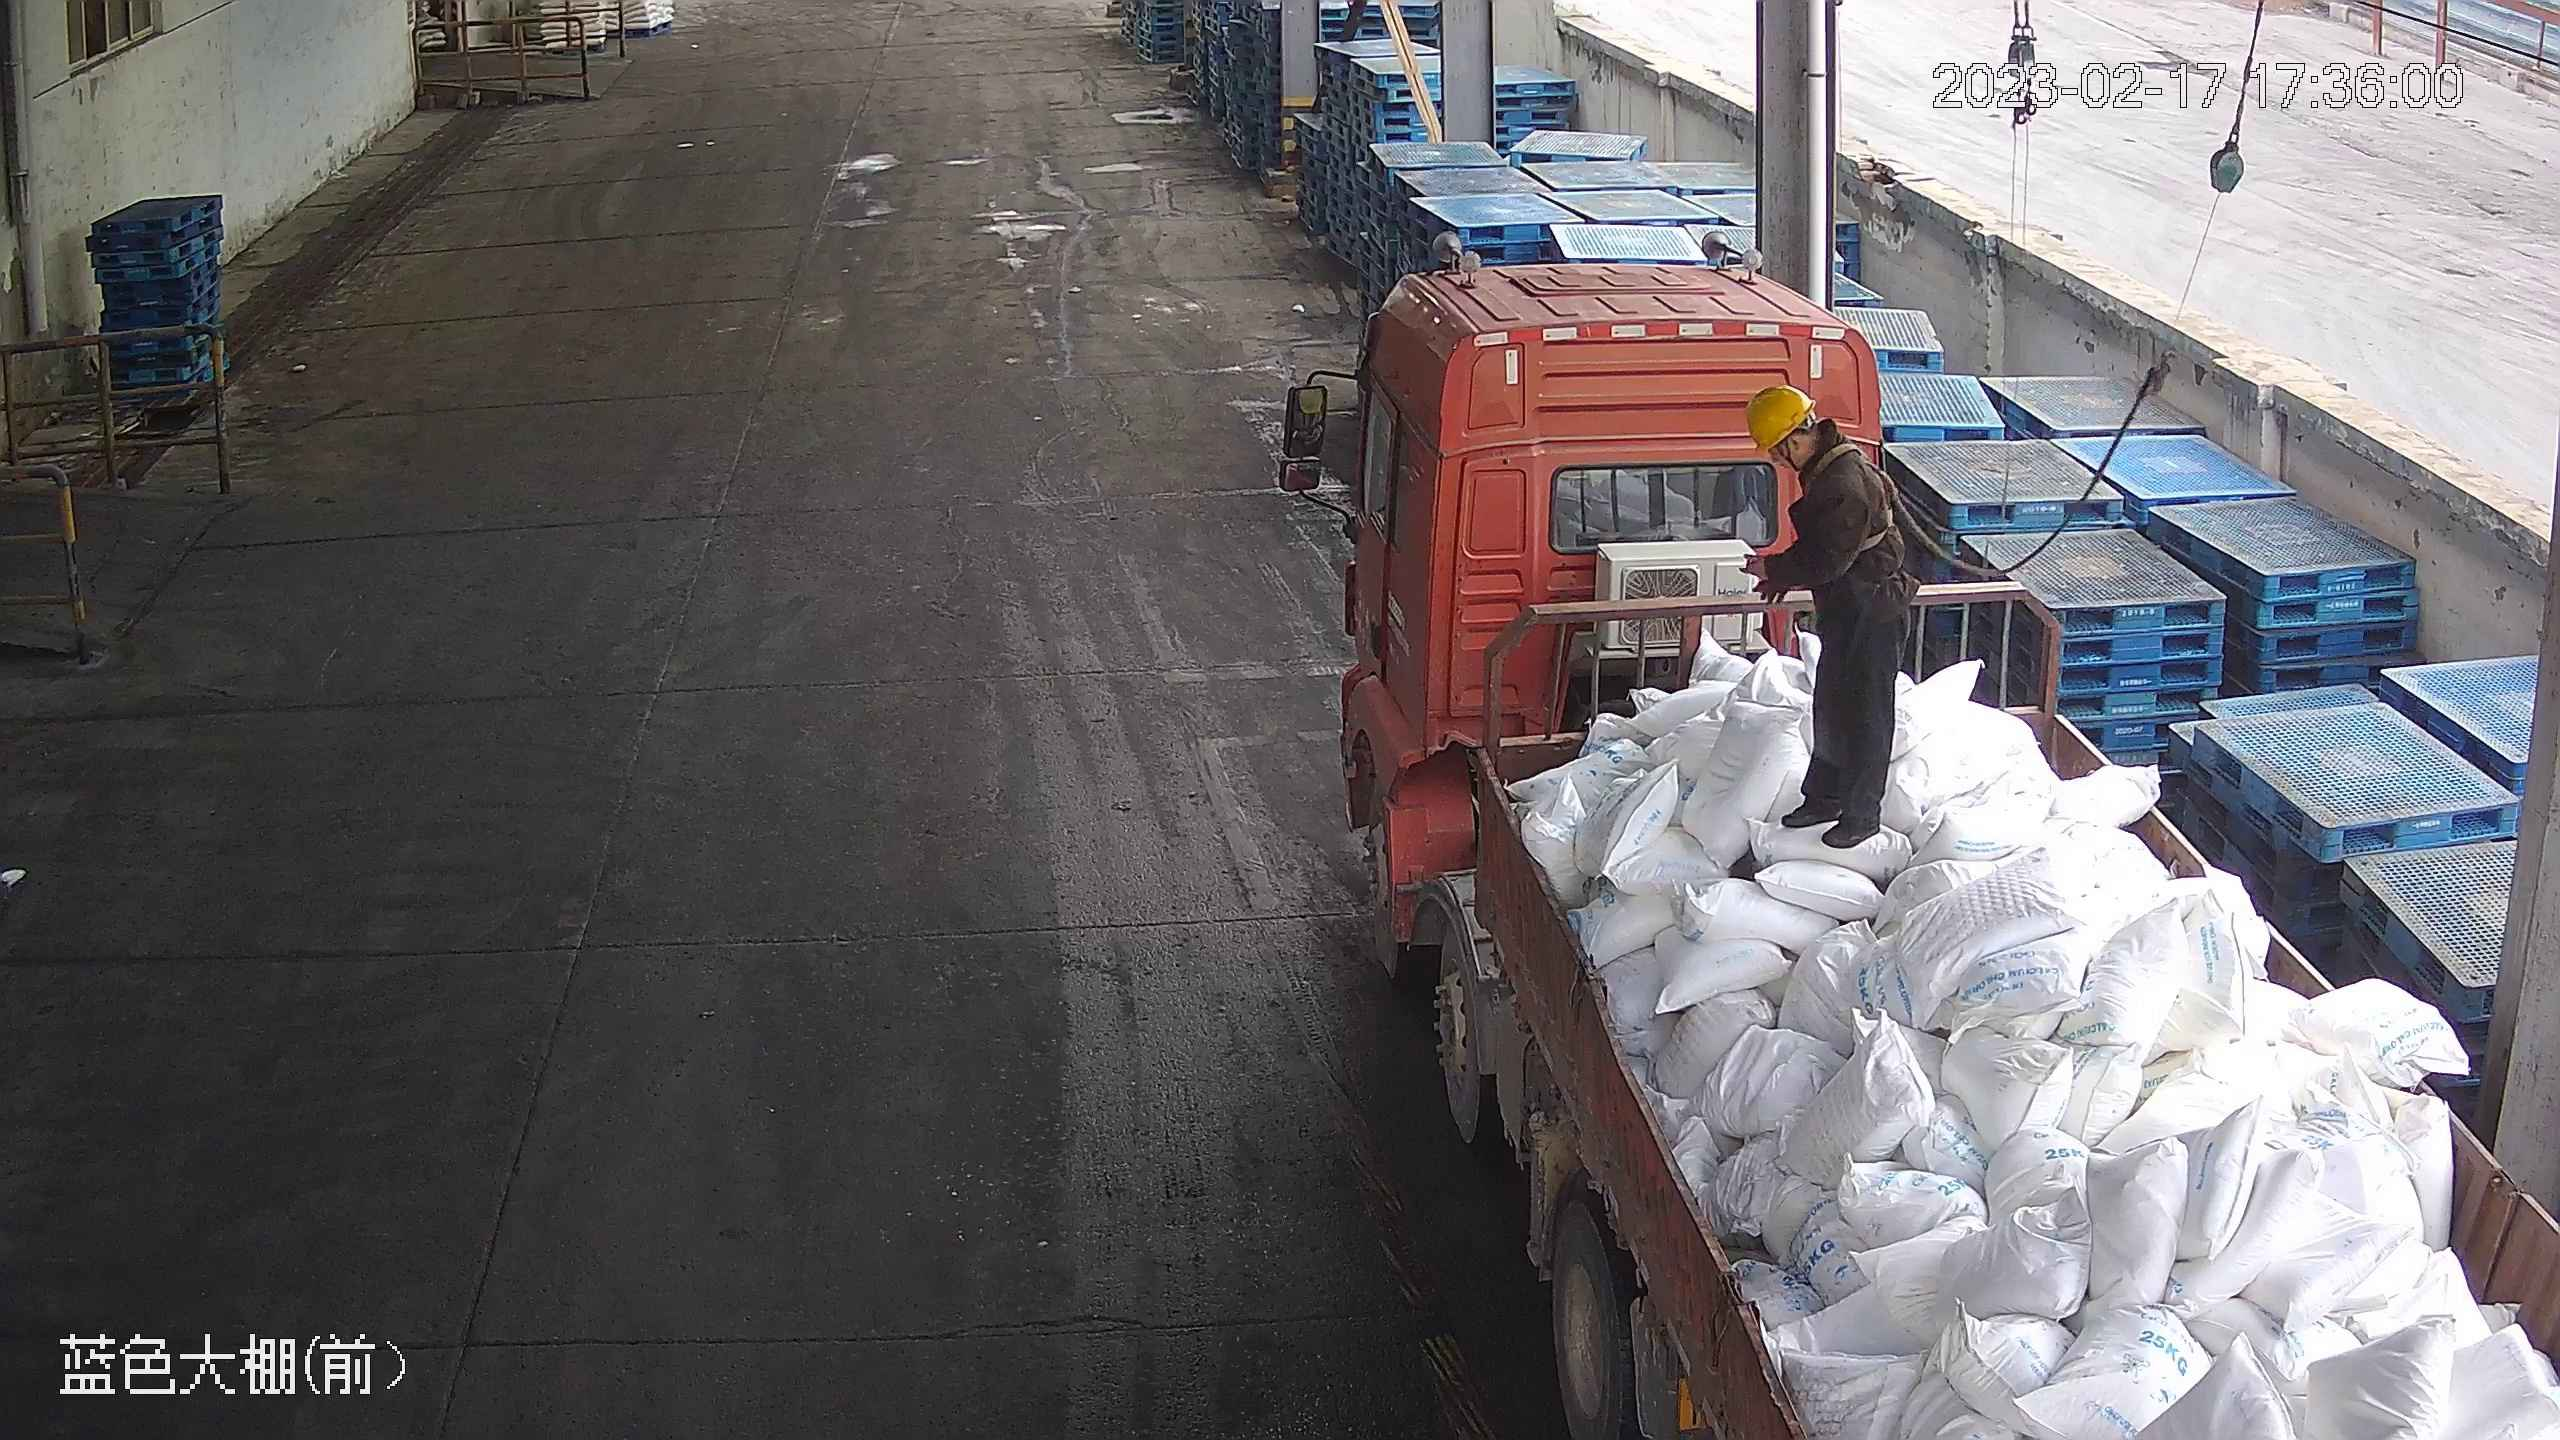belt: (1803, 413, 1907, 551)
head: (1743, 384, 1893, 537)
helmet: (1747, 382, 1817, 455)
people: (1739, 377, 1920, 861)
truck: (1274, 230, 2558, 1431)
